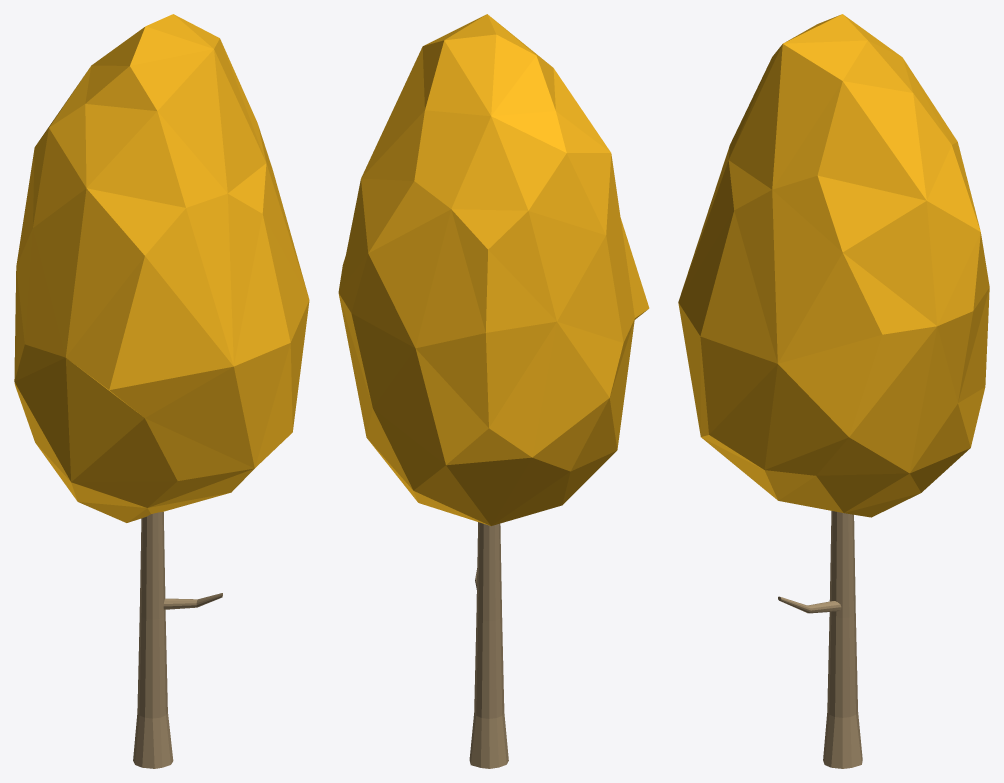
File: more more tree4.fbx
3 renders of one model, left to right at view 1: azimuth 30°, elevation 25°; view 2: azimuth 150°, elevation 25°; view 3: azimuth 270°, elevation 25°, orthographic. The views are drawn at different scales.
Visible parts, largest first — view 1: tree_010_autumn; view 2: tree_010_autumn; view 3: tree_010_autumn.
Part boxes in pixels (x1,y1,x2,y2): tree_010_autumn: [14, 14, 309, 768]; tree_010_autumn: [338, 14, 649, 768]; tree_010_autumn: [678, 14, 989, 768].
Bounding box in the file's own units: 2.9 × 7.57 × 2.88.
